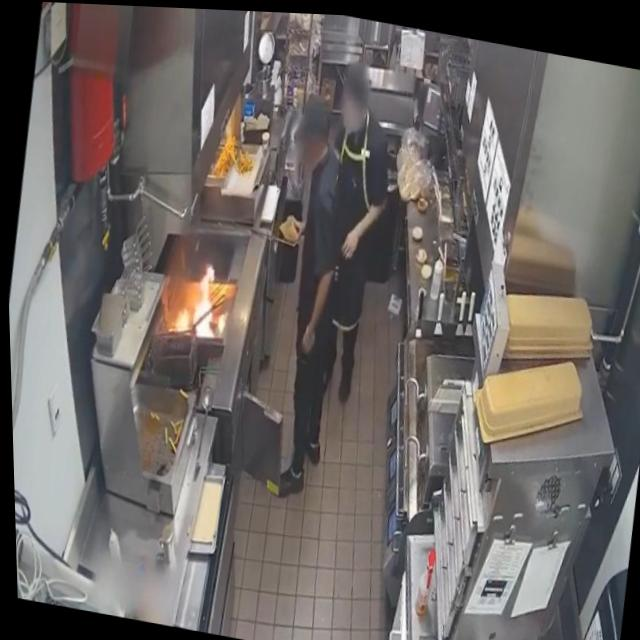fire: (167, 255, 222, 339)
